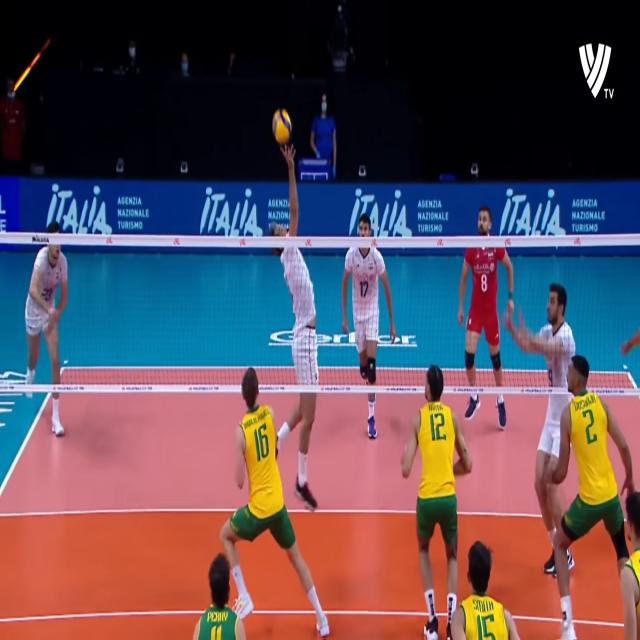player: (221, 371, 332, 638), (544, 359, 631, 640), (511, 260, 574, 579), (399, 366, 466, 640), (269, 171, 322, 511), (458, 193, 520, 442), (344, 212, 396, 444), (22, 221, 72, 445)
